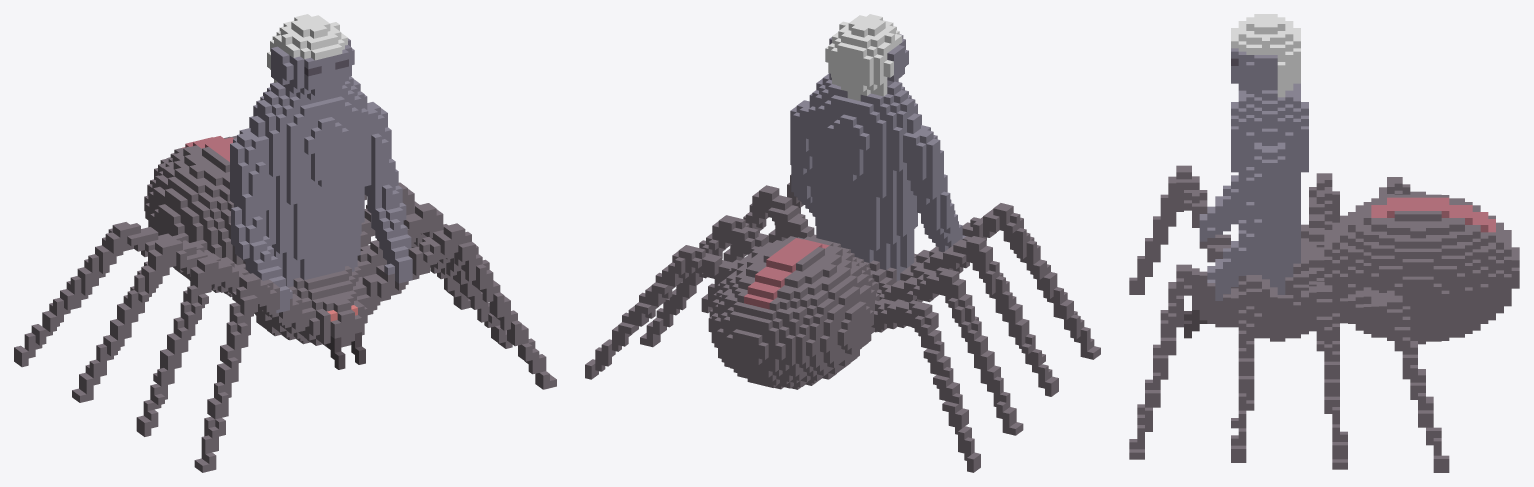
Rendered from drider.glb.
3 renders of one model, left to right at view 1: azimuth 30°, elevation 25°; view 2: azimuth 150°, elevation 25°; view 3: azimuth 270°, elevation 25°, orthographic. The views are drawn at different scales.
Visible parts, largest first — view 1: item; view 2: item; view 3: item.
Part boxes in pixels (left/top/right/bottom): item: left=14, top=14, right=556, bottom=472; item: left=585, top=14, right=1100, bottom=472; item: left=1129, top=14, right=1519, bottom=472.
Size of the model in its own units: 60 by 50 by 50.
